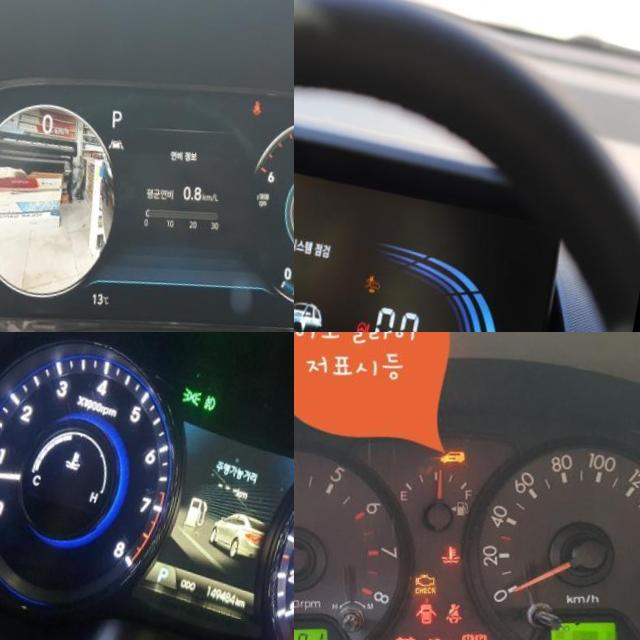Doors: (425, 585, 452, 611)
Engine cooling system: (449, 526, 474, 551)
FrontFogLight: (210, 380, 225, 399)
LaneCenteringOff: (116, 125, 135, 140)
SideLamp: (188, 373, 211, 395)
